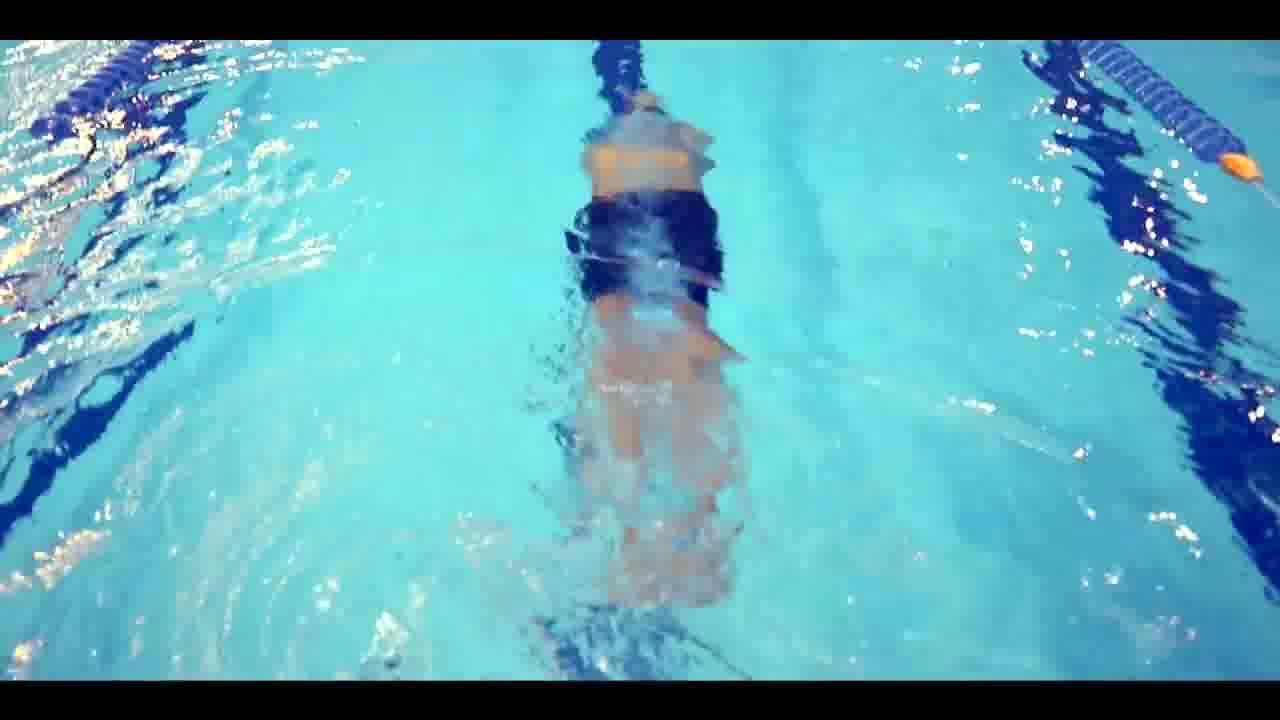human: (570, 101, 746, 593)
